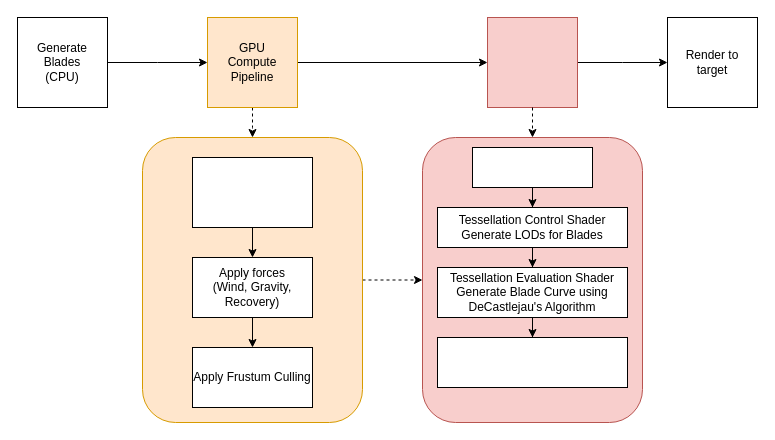
This 775x440 diagram has some shape labels left out. Here are the shapes that lost their labels. From the top down, the centre of each, then its label:
(532,62): GPU Graphics Pipeline
(532,167): Vertex Shader Pass through
(252,192): Apply 1. Orientation Culling 2. Distance Culling
(532,362): Fragment Shader Lambertian Shading Model
